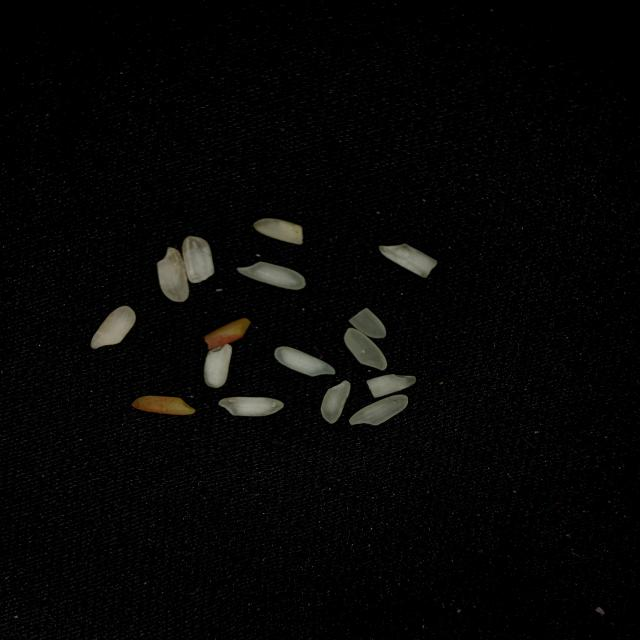Broken: (379, 243, 437, 278), (182, 236, 215, 283), (204, 318, 250, 350), (254, 218, 304, 244), (132, 396, 196, 415), (366, 374, 416, 398), (348, 308, 386, 338)
Full: (90, 306, 136, 349), (237, 262, 306, 290), (274, 346, 336, 376), (344, 328, 387, 370), (349, 395, 408, 425), (158, 247, 190, 302), (321, 381, 351, 424), (218, 397, 284, 416), (204, 344, 232, 388)
